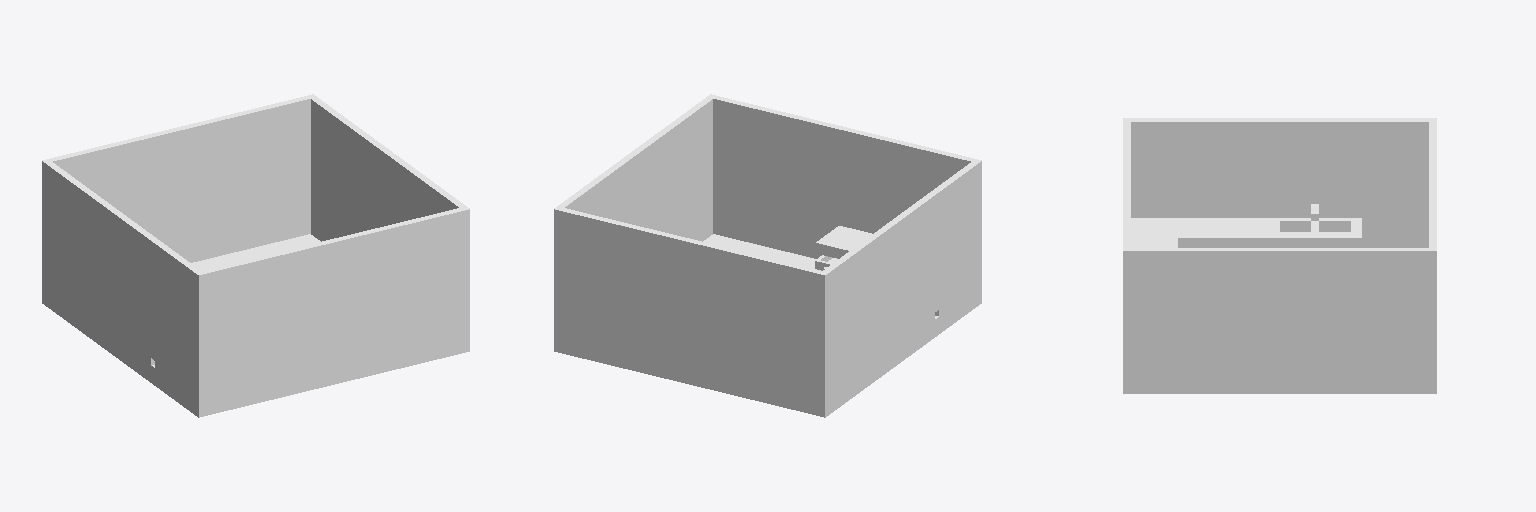
File: world-0.obj
3 views of the same model, side by side, from view 1: azimuth 30°, elevation 25°; view 2: azimuth 150°, elevation 25°; view 3: azimuth 270°, elevation 25° (orthographic).
Parts seen in each view (by area): view 1: world-0; view 2: world-0; view 3: world-0.
Part boxes in pixels (bbox=[...]): world-0: bbox=[42, 94, 469, 417]; world-0: bbox=[554, 94, 981, 417]; world-0: bbox=[1123, 118, 1436, 393].
Size of the model in its own units: 80 by 40 by 80.